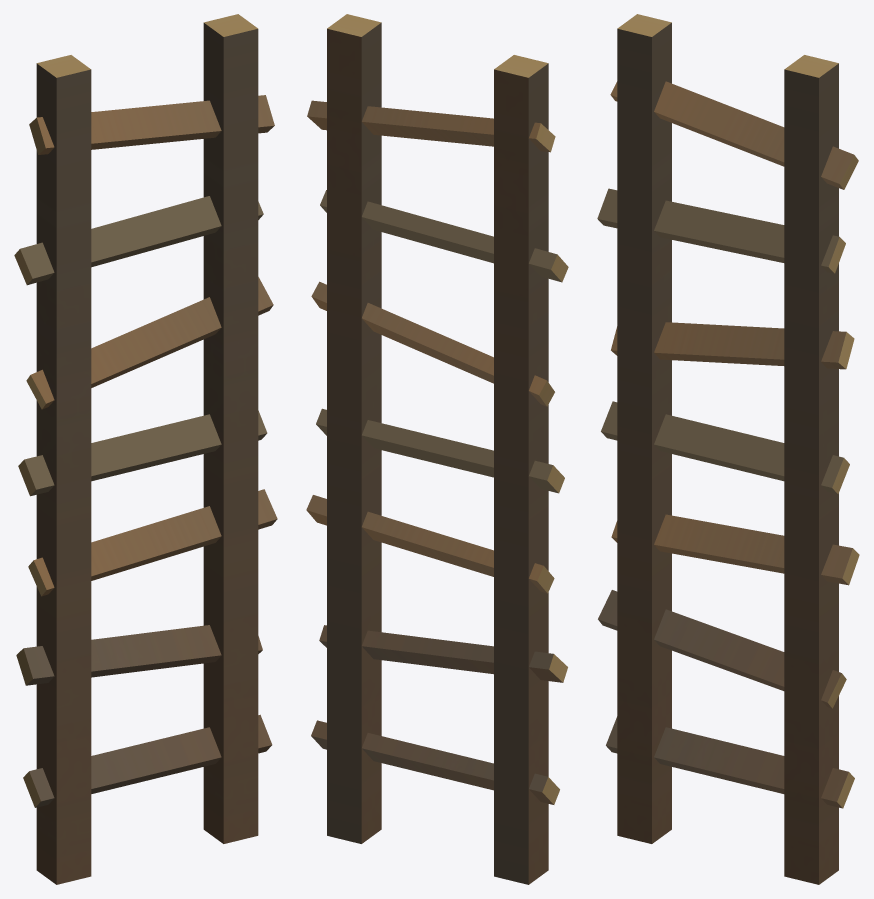
File: Ladder_LOD1.fbx
The picture shows the model from 3 angles, left to right: view 1: azimuth 30°, elevation 25°; view 2: azimuth 150°, elevation 25°; view 3: azimuth 330°, elevation 25°; orthographic projection.
Parts seen in each view (by area): view 1: polySurface9733; view 2: polySurface9733; view 3: polySurface9733.
Boxes of the visible parts, x1,y1,x2,y2 form: polySurface9733: (14,14,277,884); polySurface9733: (306,14,568,884); polySurface9733: (597,14,859,884).
Size of the model in its own units: 192 by 600 by 27.
